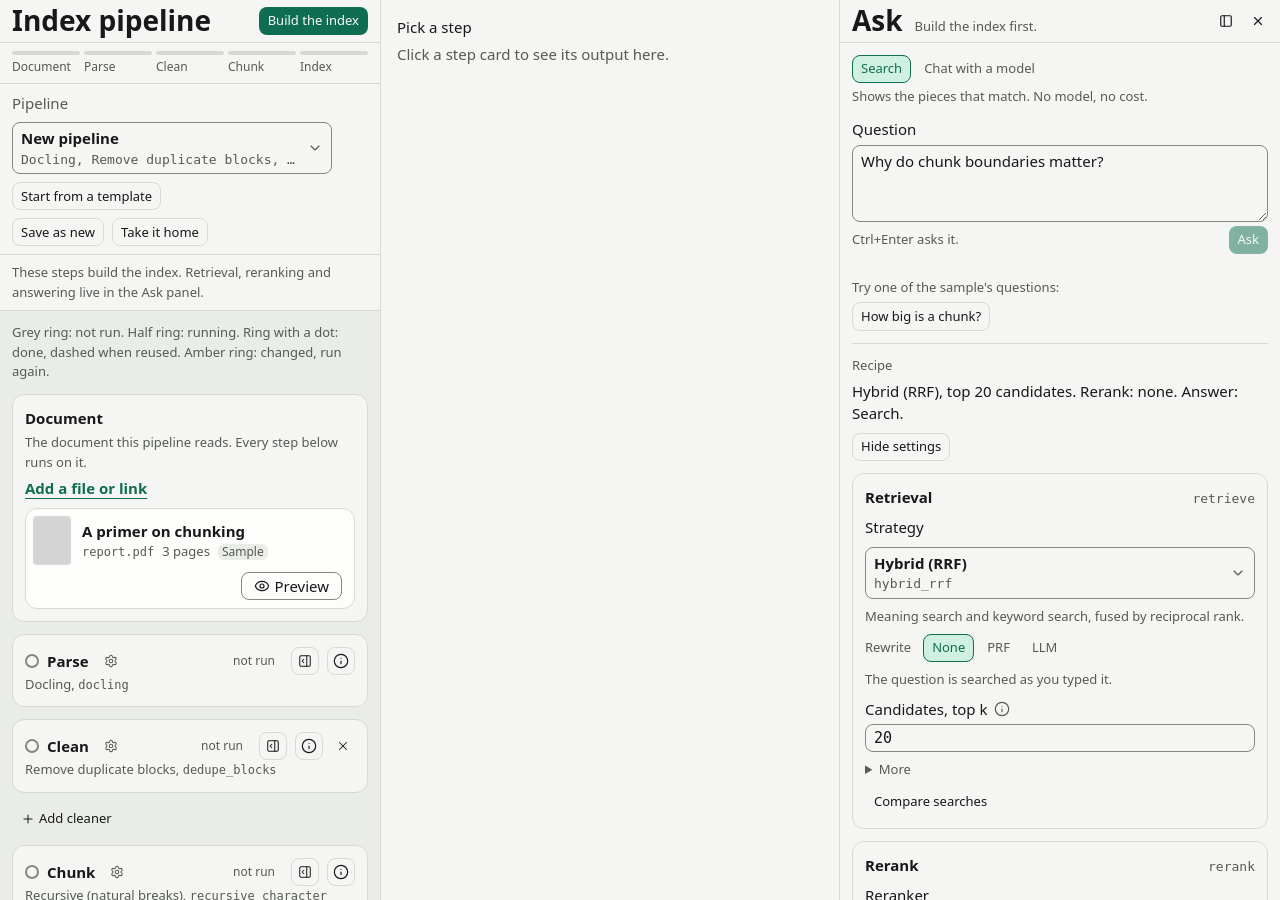
no em-dashes or en-dashes in visible text › Build, with a file loaded and an explanation open
This screenshot has width=1280, height=900.
Click the button named "Explain the Chunk step" at (341, 872), box [327,858,355,886]
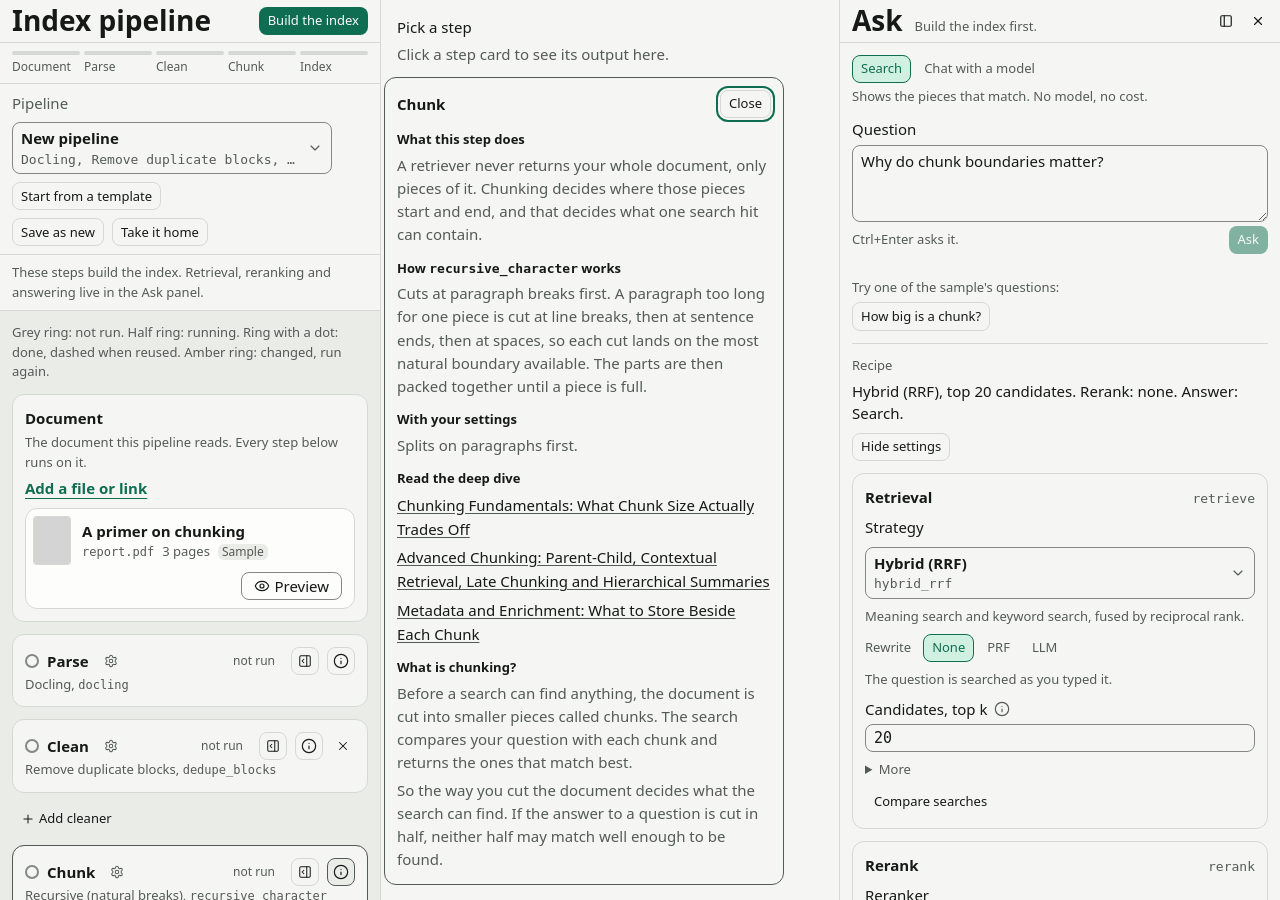
Expected: the text "What this step does" is shown, [397,130,525,148]
Expected: the text "What is chunking?" is shown, [397,658,516,676]
